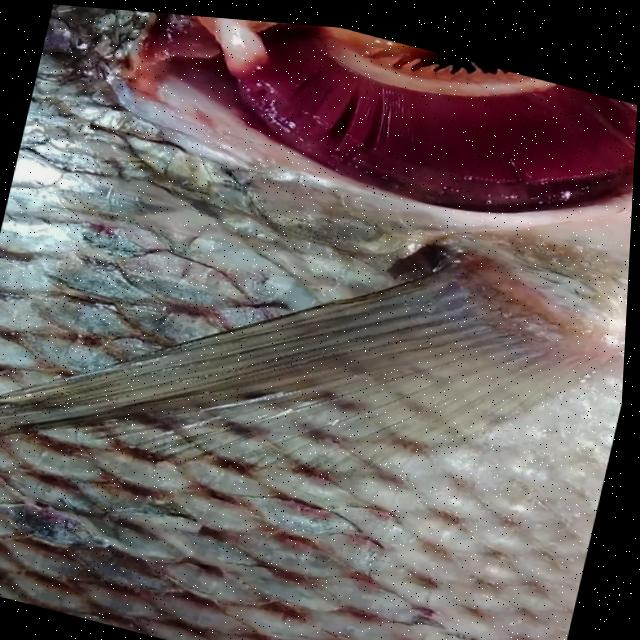Fresh: (174, 12, 640, 259)
